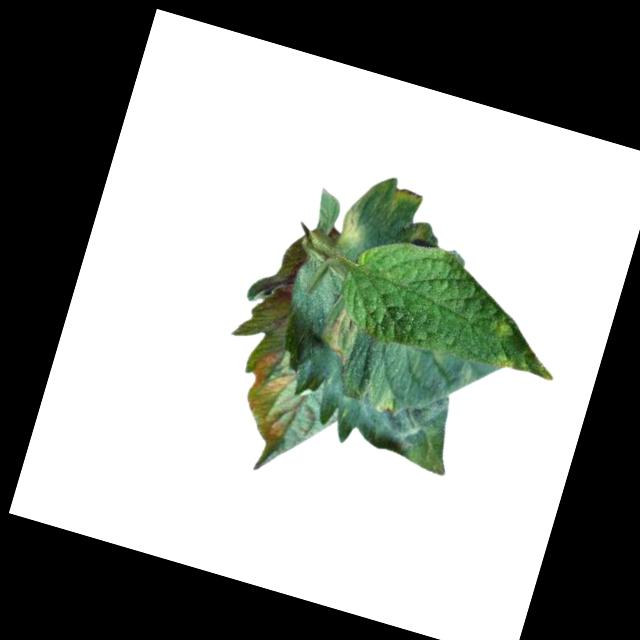Leaf_Mold: (234, 344, 313, 450), (319, 304, 369, 368), (333, 209, 376, 258), (386, 184, 427, 222), (372, 390, 404, 421), (490, 351, 515, 372)
